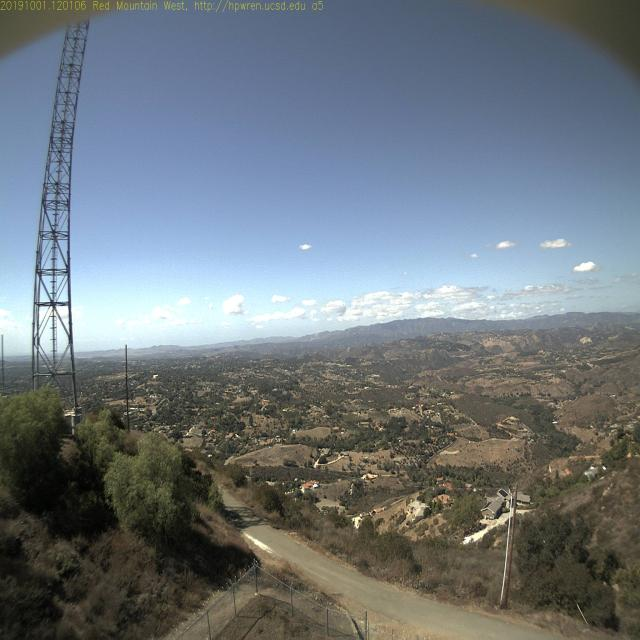smoke: (302, 328, 324, 343)
